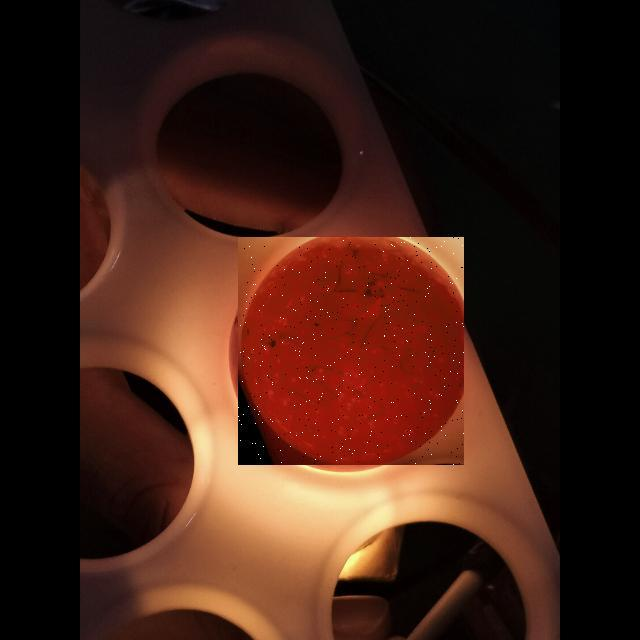Infertile: (238, 237, 464, 465)
